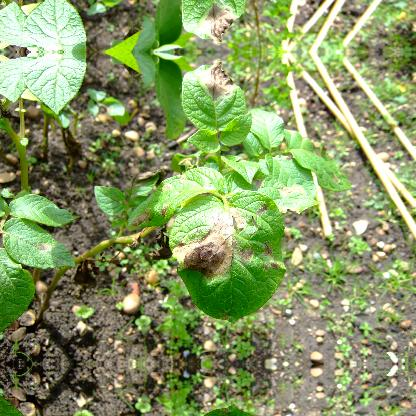Early-Blight: (166, 209, 282, 297), (190, 54, 250, 106), (189, 0, 250, 49), (266, 175, 314, 207), (25, 221, 60, 258), (322, 162, 348, 188)
